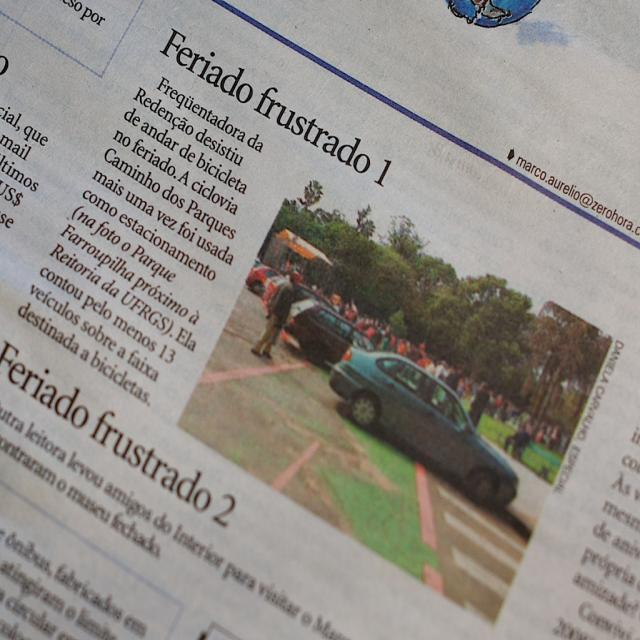Passenger Car: (327, 350, 522, 520)
Pedestrians: (252, 272, 303, 362)
